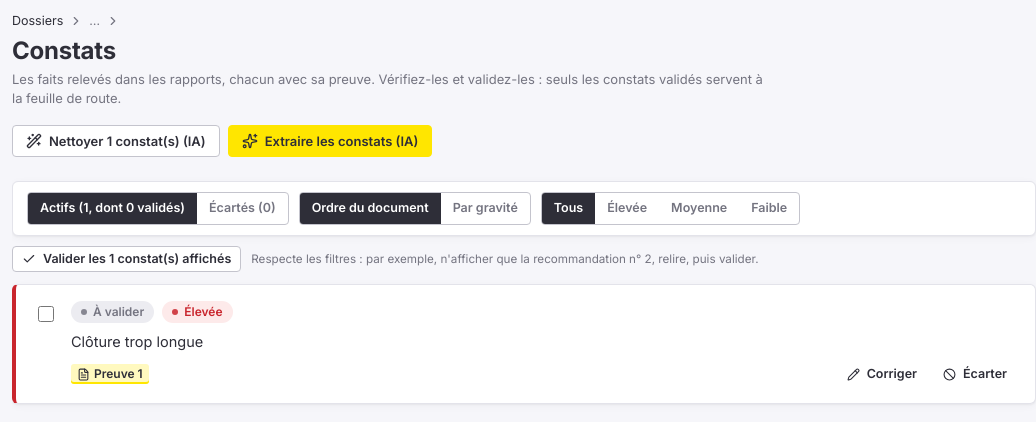
page constats › valide un constat via PATCH et met à jour l'affichage
The image size is (1036, 422).
Click the checkbox: (46, 314) x1=38 y1=306 x2=54 y2=322
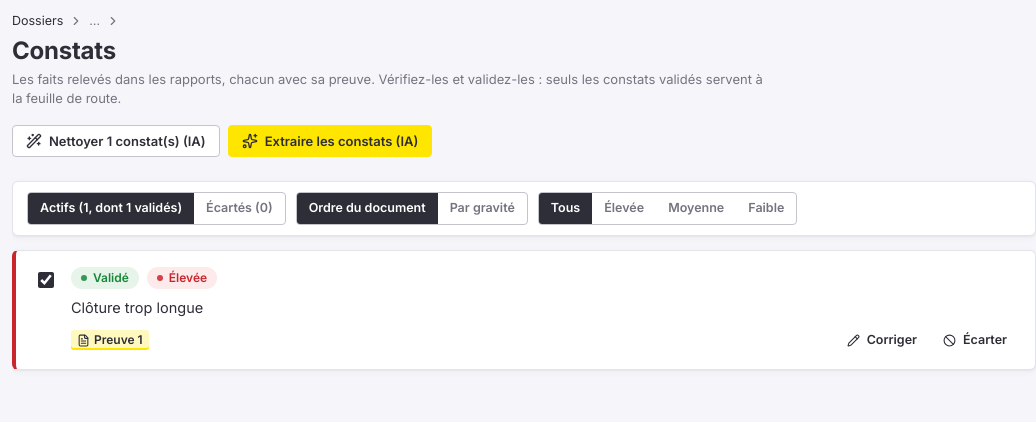
Now the text "Validé" is shown, box x1=71 y1=267 x2=139 y2=289
